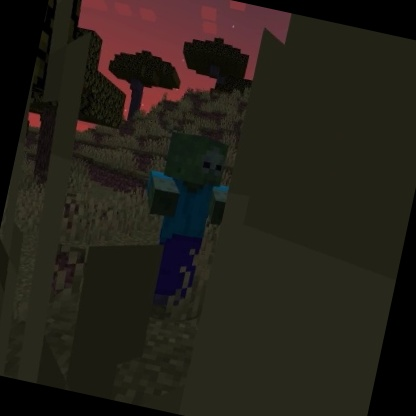zombie: (118, 123, 241, 320)
